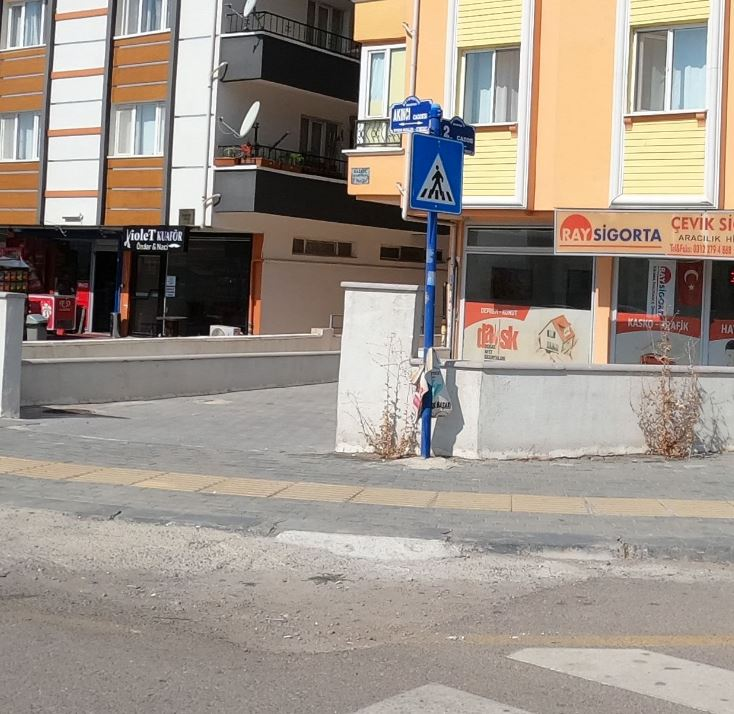Yaya Gecidi: (411, 133, 465, 209)
